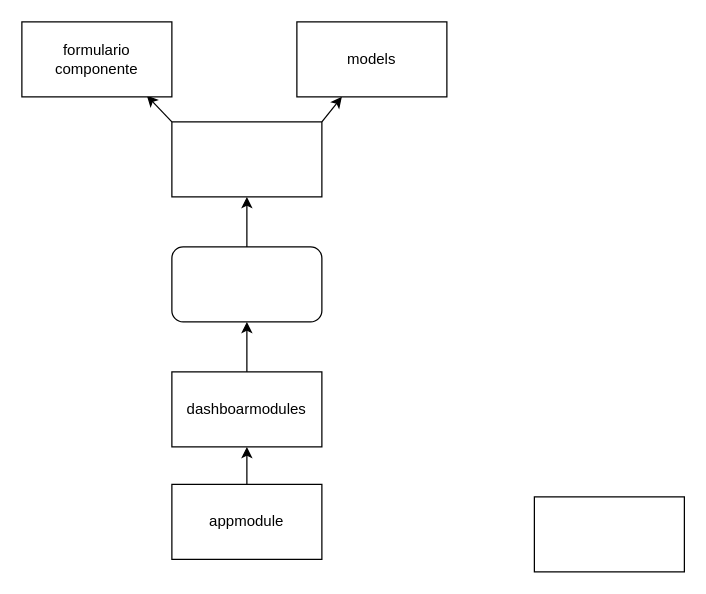
Image size: 706x594. Some labels were removed from this diagram. Here are the shapes that lost their labels. From the top down, the box of each, then its label:
(171, 121, 322, 197): usarios
(171, 246, 322, 322): pages
